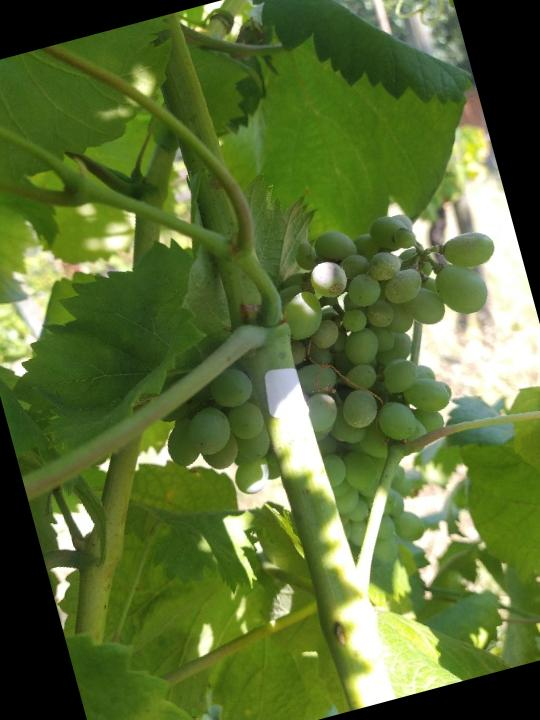grape: (121, 189, 540, 613)
